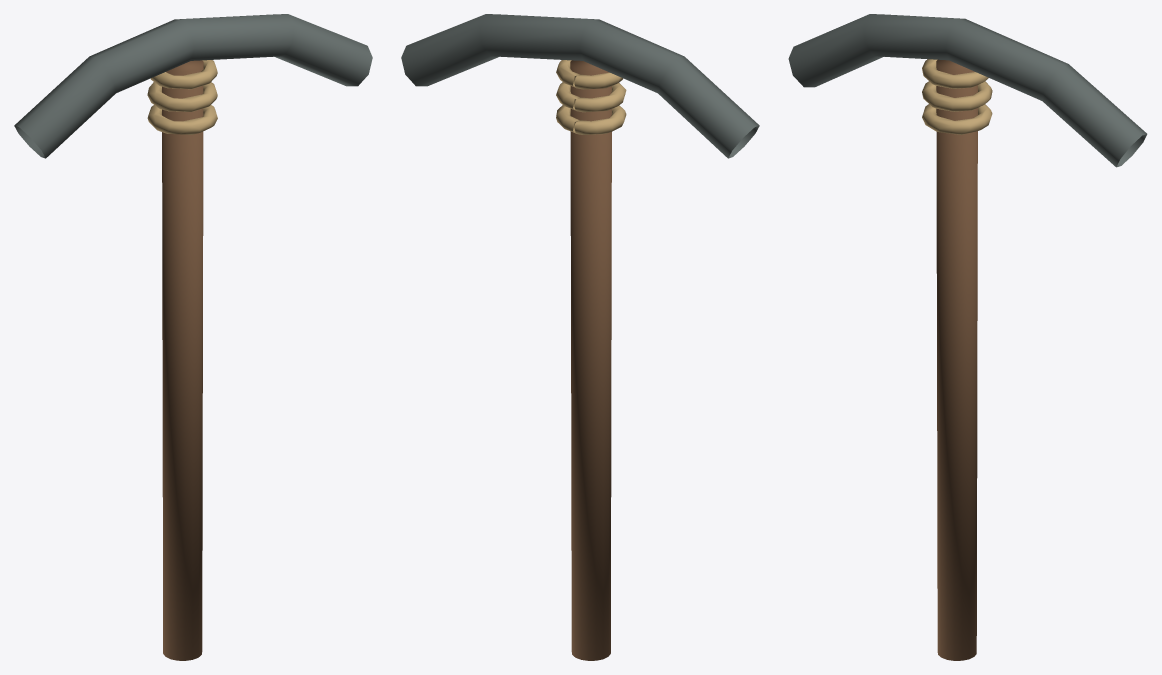
Rendered from worker-pickaxe.glb.
3 renders of one model, left to right at view 1: azimuth 30°, elevation 25°; view 2: azimuth 150°, elevation 25°; view 3: azimuth 330°, elevation 25°, orthographic.
Parts seen in each view (by area): view 1: Worker_Pickaxe_Geometry; view 2: Worker_Pickaxe_Geometry; view 3: Worker_Pickaxe_Geometry.
Part boxes in pixels (x1,y1,x2,y2): Worker_Pickaxe_Geometry: (14, 14, 372, 660); Worker_Pickaxe_Geometry: (401, 14, 759, 660); Worker_Pickaxe_Geometry: (788, 14, 1147, 660).
Size of the model in its own units: 0.6659 by 1.16 by 0.1169.
